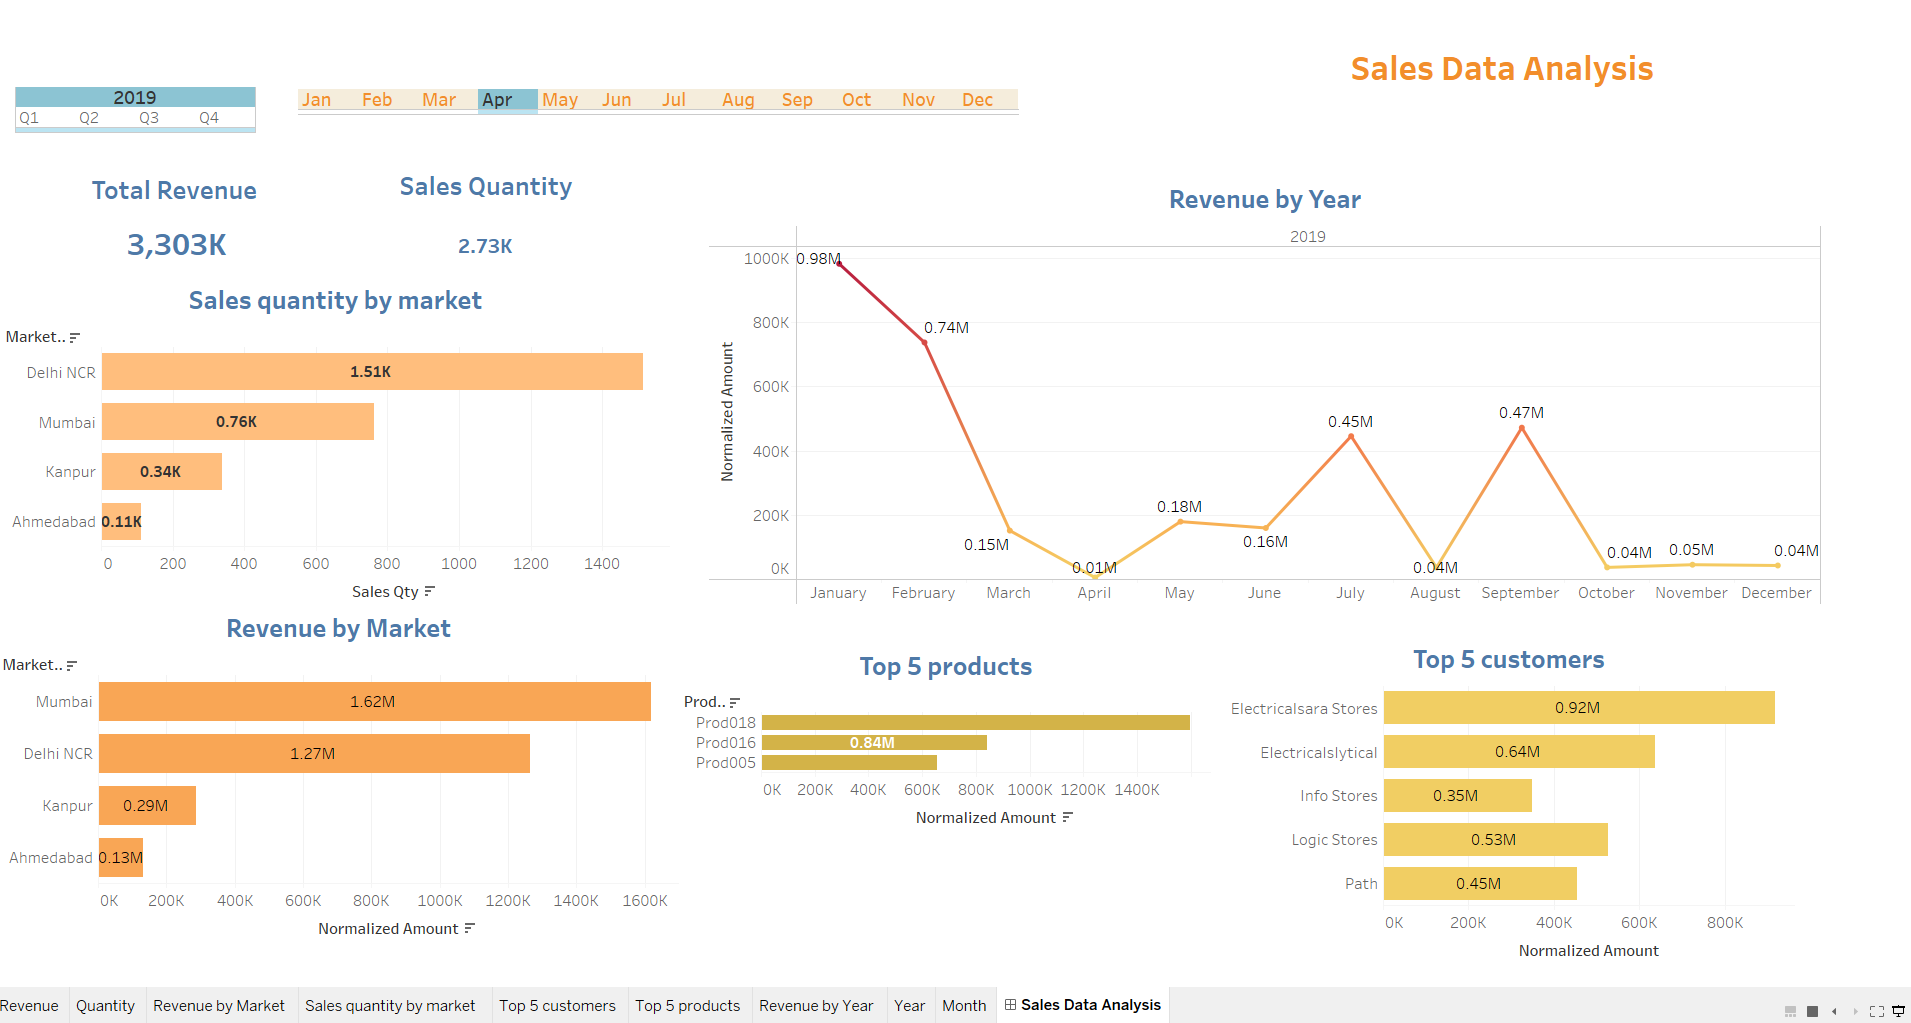

This screenshot's page, from the dashboard's own definition file:
{"tool":"tableau","page":{"name":"Sales Data Analysis","canvas":[1000,1000],"units":"permille","ordinal":0},"visuals":[{"type":"text","box":[597.5,31.2,378.4,84.9]},{"type":"worksheet","title":"Year","mark":"Automatic","cols":["cy_date","cy_date"],"box":[12.1,93.6,146.1,72.4]},{"type":"worksheet","title":"Month","mark":"Automatic","cols":["cy_date"],"box":[159.3,96.1,435.7,51.2]},{"type":"worksheet","title":"Quantity","mark":"Automatic","box":[176.2,171,162.3,114.9]},{"type":"worksheet","title":"Revenue","mark":"Automatic","box":[6.6,174.8,179.2,102.4]},{"type":"worksheet","title":"Revenue by Year","mark":"Automatic","rows":["Calculation_330733103964090368"],"cols":["cy_date","cy_date"],"box":[373.6,184.8,579.4,430.7]},{"type":"worksheet","title":"Sales quantity by market","mark":"Automatic","rows":["markets_name"],"cols":["sales_qty"],"box":[4.8,285.9,348.2,333.3]},{"type":"worksheet","title":"Revenue by Market","mark":"Automatic","rows":["markets_name"],"cols":["Calculation_330733103964090368"],"box":[3,616.7,354.9,342.1]},{"type":"worksheet","title":"Top 5 customers","mark":"Automatic","rows":["custmer_name"],"cols":["Calculation_330733103964090368"],"box":[640.9,647.9,298.1,333.3]},{"type":"worksheet","title":"Top 5 products","mark":"Automatic","rows":["product_code"],"cols":["Calculation_330733103964090368"],"box":[359.1,654.2,275.8,288.4]}]}

Visuals, with their boxes on the dashboard's canvas, which has no fixed pixel size, in thousandths of its width and height (x1, y1, x2, y2). These are canvas units, not pixel positions in the 1911x1023 screenshot, which may show the page scaled, cropped or inside an application window:
text: (598,31,976,116)
"Year" worksheet: (12,94,158,166)
"Month" worksheet: (159,96,595,147)
"Quantity" worksheet: (176,171,338,286)
"Revenue" worksheet: (7,175,186,277)
"Revenue by Year" worksheet: (374,185,953,616)
"Sales quantity by market" worksheet: (5,286,353,619)
"Revenue by Market" worksheet: (3,617,358,959)
"Top 5 customers" worksheet: (641,648,939,981)
"Top 5 products" worksheet: (359,654,635,943)
